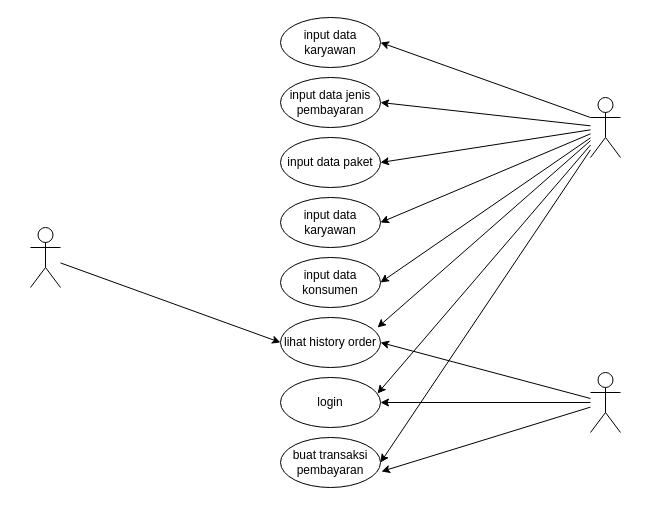
Some shapes in this 649 by 505 pixel diagram are drawn without their labels. The centre of each missing label's shape, as x and y in pixels:
Admin: (605,127)
Karyawan: (605,402)
Konsumen: (45,257)
